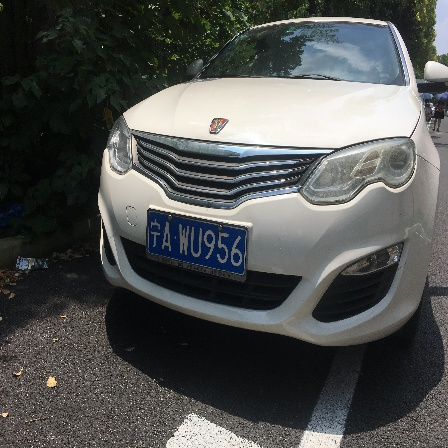plate: (145, 207, 255, 280)
